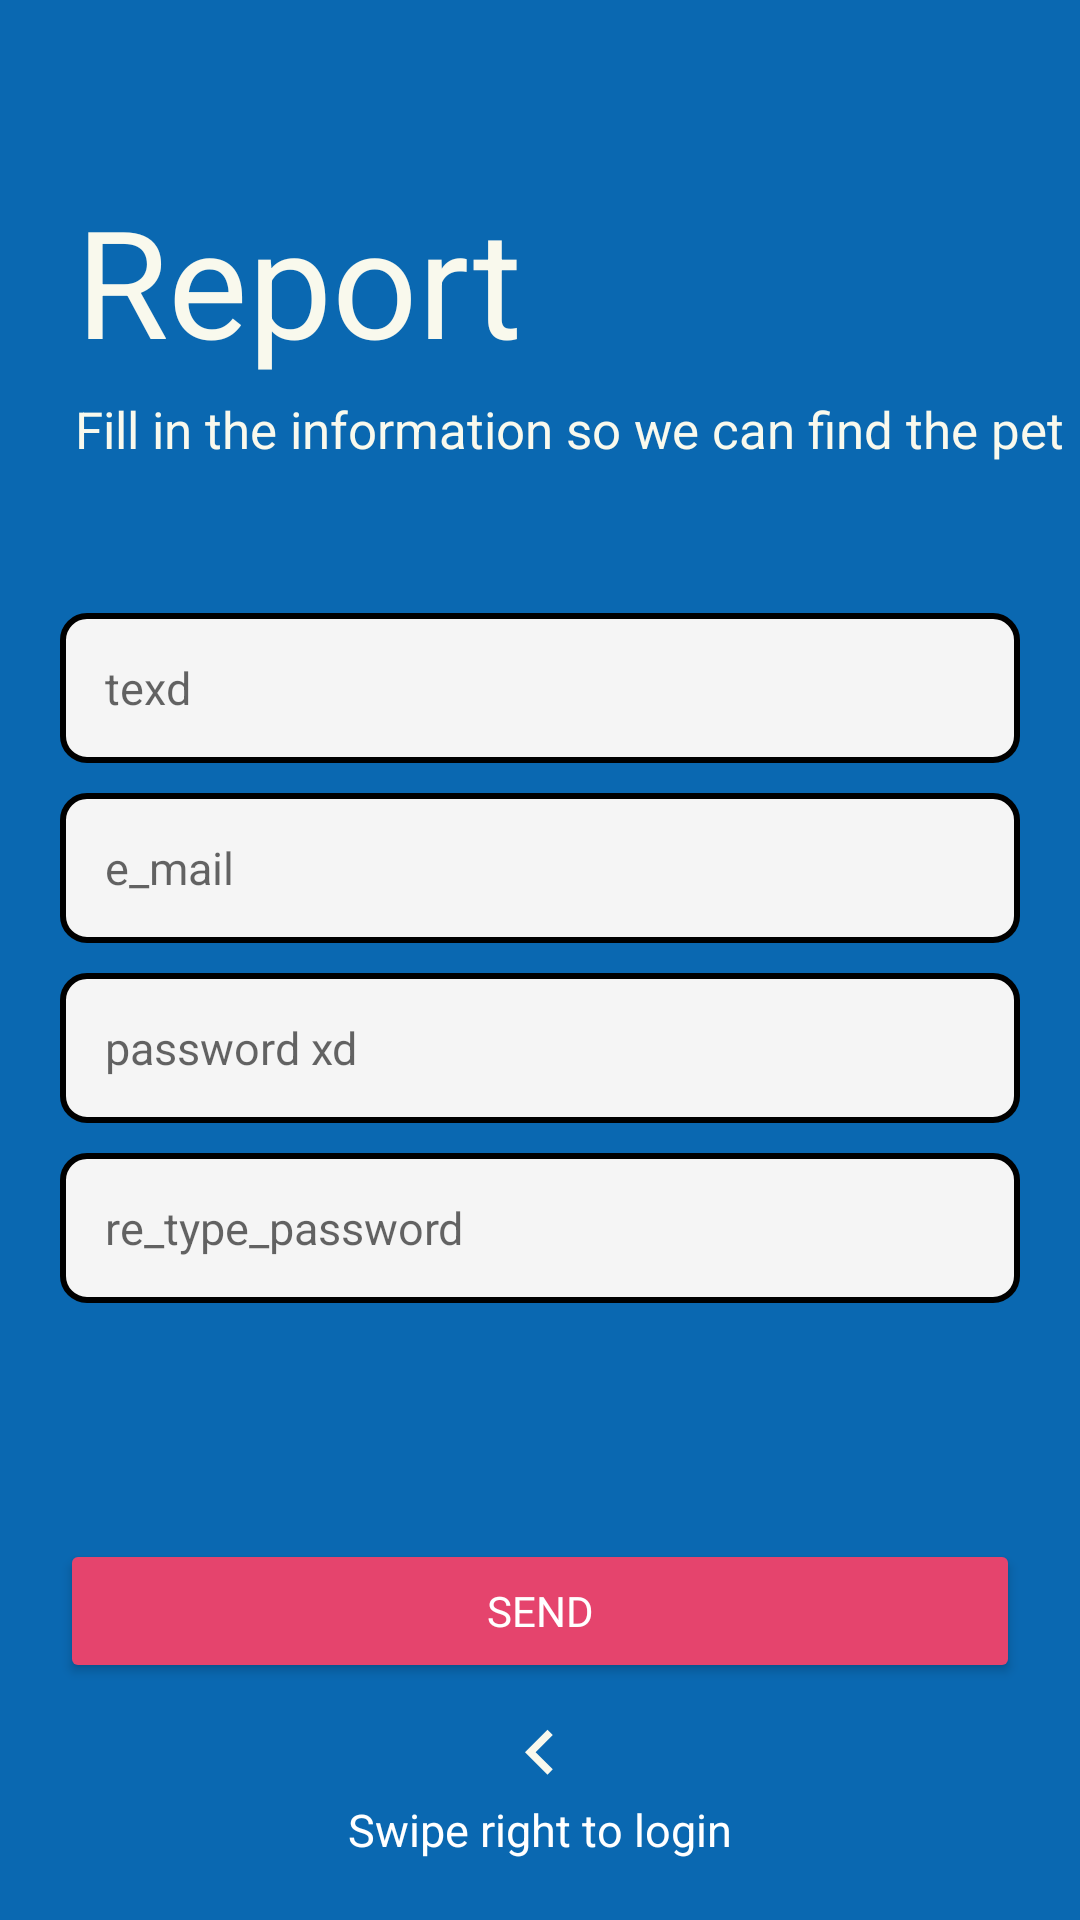

Screen size 1080×1920. Icon name, then its box in pixels as box=[x1, y1, x2, y2]:
arrow left: box=[525, 1730, 553, 1775]
